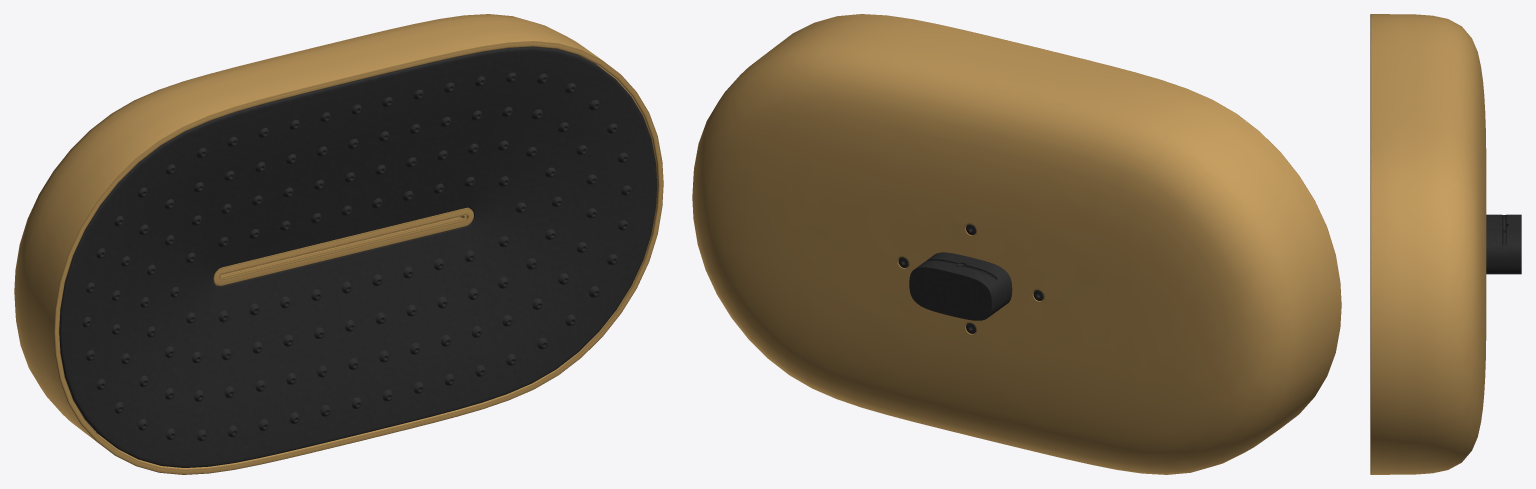
The picture shows the model from 3 angles, left to right: view 1: azimuth 30°, elevation 25°; view 2: azimuth 150°, elevation 25°; view 3: azimuth 270°, elevation 25°; orthographic projection. The views are drawn at different scales.
Parts seen in each view (by area): view 1: 26296W; view 2: 26296W; view 3: 26296W.
Part boxes in pixels (box(x1,y1,x2,y2)): 26296W: box(14, 14, 663, 474); 26296W: box(692, 14, 1341, 474); 26296W: box(1370, 14, 1521, 474).
Size of the model in its own units: 0.4461 by 0.2565 by 0.1096.
1 material, 1 textured.
